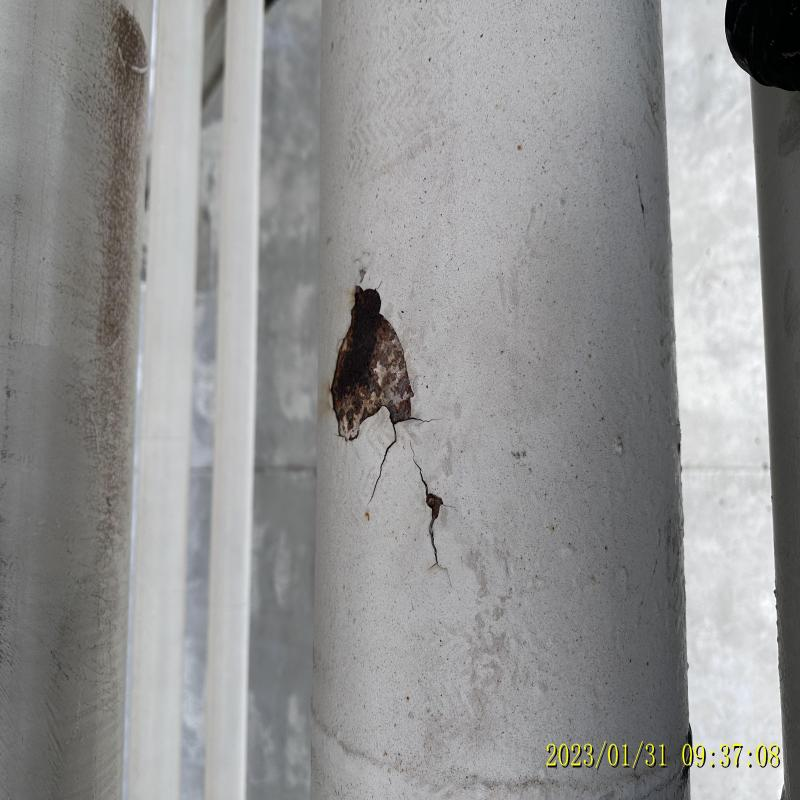Fracture: (341, 294, 401, 447)
